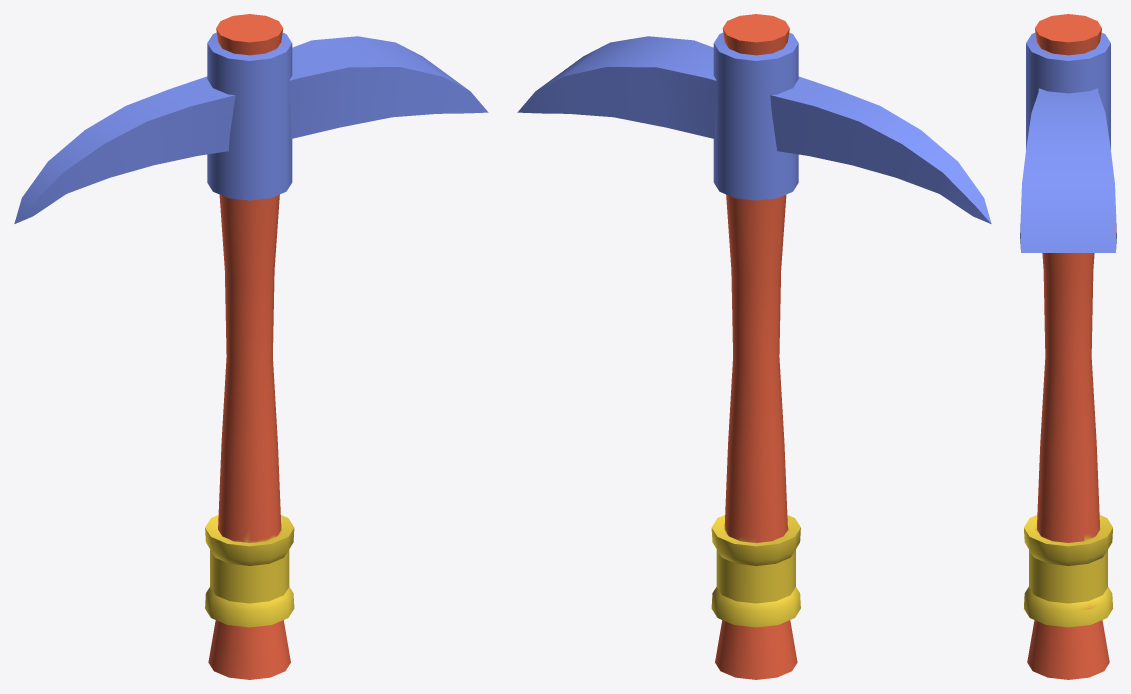
The model's file is Pickaxe.fbx.
3 renders of one model, left to right at view 1: azimuth 30°, elevation 25°; view 2: azimuth 150°, elevation 25°; view 3: azimuth 270°, elevation 25°, orthographic.
Visible parts, largest first — view 1: Pickaxe; view 2: Pickaxe; view 3: Pickaxe.
Part boxes in pixels (x1,y1,x2,y2): Pickaxe: (14,14,488,679); Pickaxe: (517,14,991,679); Pickaxe: (1020,14,1116,679).
Bounding box in the file's own units: 55.15 × 74.16 × 10.27.
1 material, 1 textured.
